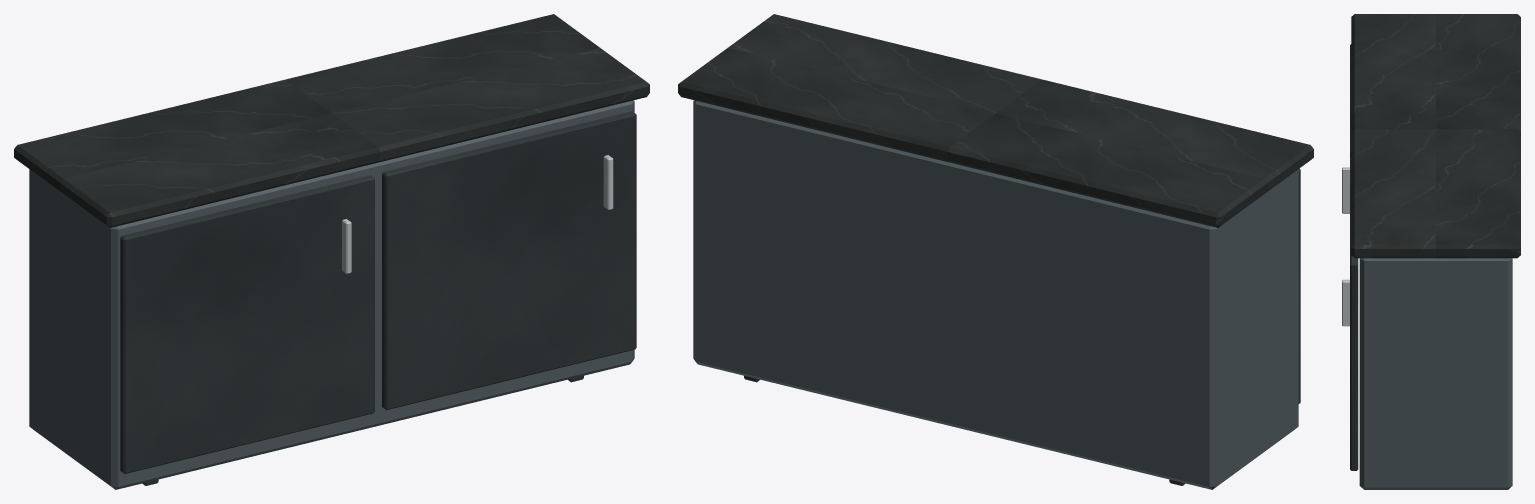
Rendered from SideCabinet.glb.
The picture shows the model from 3 angles, left to right: view 1: azimuth 30°, elevation 25°; view 2: azimuth 150°, elevation 25°; view 3: azimuth 270°, elevation 25°; orthographic projection. The views are drawn at different scales.
Parts seen in each view (by area): view 1: SideCabinet__Powdercoat__mesh, SideCabinet__BlackMarble__mesh, SideCabinet__BlackenedSteel__mesh, SideCabinet__BrushedHardware__mesh; view 2: SideCabinet__BlackenedSteel__mesh, SideCabinet__BlackMarble__mesh, SideCabinet__Powdercoat__mesh; view 3: SideCabinet__BlackMarble__mesh, SideCabinet__BlackenedSteel__mesh, SideCabinet__Powdercoat__mesh, SideCabinet__BrushedHardware__mesh.
Boxes of the visible parts, left/top/right/bottom form: SideCabinet__Powdercoat__mesh: left=120, top=111, right=636, bottom=485; SideCabinet__BlackMarble__mesh: left=14, top=14, right=649, bottom=227; SideCabinet__BlackenedSteel__mesh: left=29, top=100, right=634, bottom=489; SideCabinet__BrushedHardware__mesh: left=342, top=155, right=613, bottom=273; SideCabinet__BlackenedSteel__mesh: left=693, top=100, right=1298, bottom=489; SideCabinet__BlackMarble__mesh: left=678, top=14, right=1313, bottom=227; SideCabinet__Powdercoat__mesh: left=744, top=168, right=1300, bottom=485; SideCabinet__BlackMarble__mesh: left=1351, top=14, right=1520, bottom=258; SideCabinet__BlackenedSteel__mesh: left=1359, top=258, right=1512, bottom=489; SideCabinet__Powdercoat__mesh: left=1350, top=44, right=1358, bottom=470; SideCabinet__BrushedHardware__mesh: left=1342, top=167, right=1349, bottom=326.
Bounding box in the file's own units: 1.66 × 0.8645 × 0.5375.
4 materials, 2 textured.
